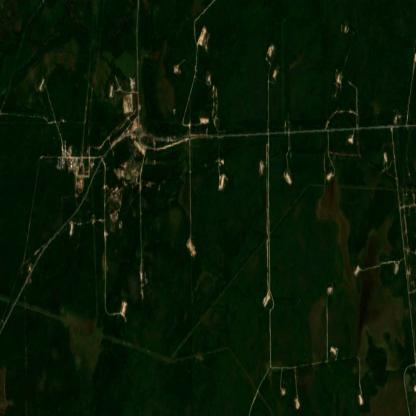oil: (35, 149, 60, 170)
